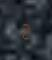two: (19, 20, 31, 39)
